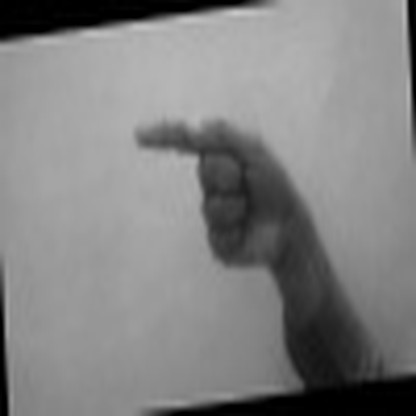g: (128, 101, 313, 276)
